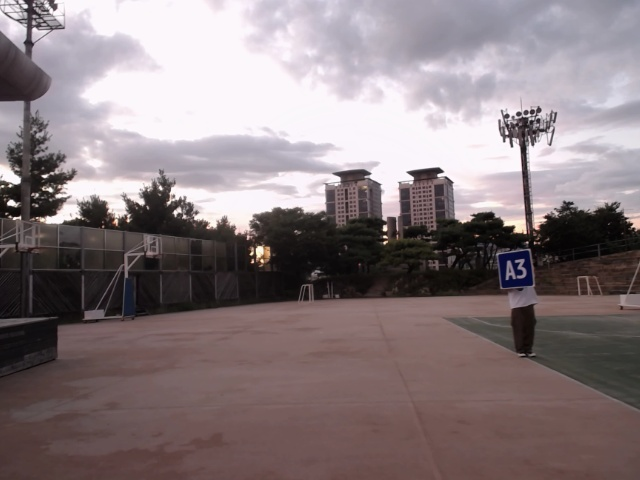delivery_a3: (494, 250, 534, 288)
